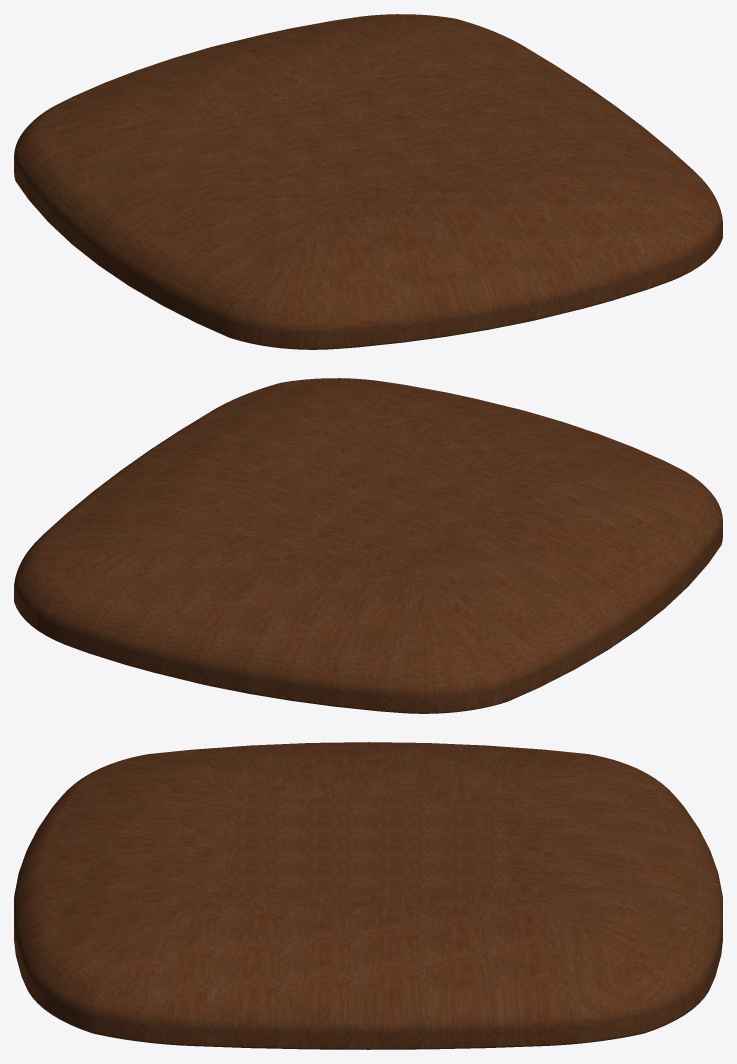
The model's file is seat.obj.
The picture shows the model from 3 angles, top to bottom: view 1: azimuth 30°, elevation 25°; view 2: azimuth 150°, elevation 25°; view 3: azimuth 270°, elevation 25°; orthographic projection. The views are drawn at different scales.
Parts seen in each view (by area): view 1: seat_mesh3_mesh3-geometry; view 2: seat_mesh3_mesh3-geometry; view 3: seat_mesh3_mesh3-geometry.
Boxes of the visible parts, bbox=[...] form: seat_mesh3_mesh3-geometry: bbox=[14, 14, 722, 349]; seat_mesh3_mesh3-geometry: bbox=[14, 378, 722, 713]; seat_mesh3_mesh3-geometry: bbox=[14, 742, 722, 1049].
Bounding box in the file's own units: 0.3736 × 0.0432 × 0.4068.
